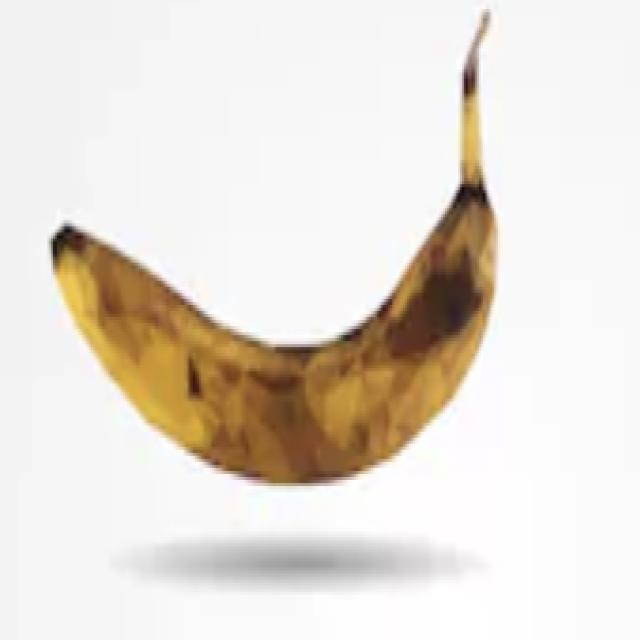rotten-banana: (49, 6, 498, 483)
